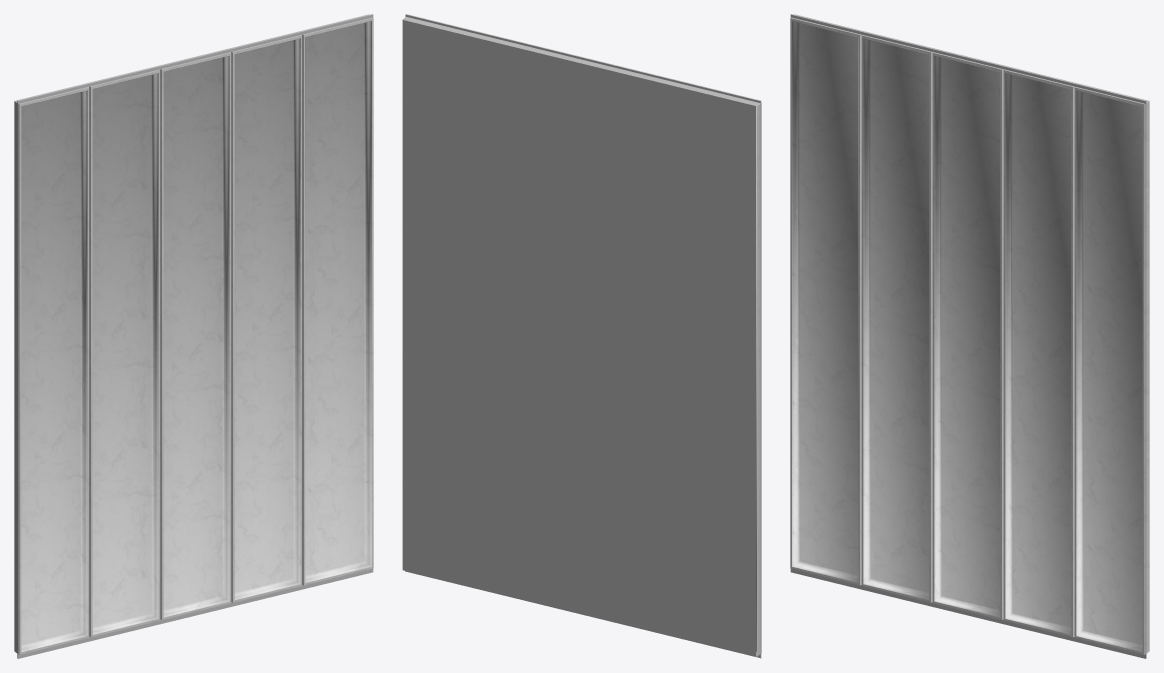
3 views of the same model, side by side, from view 1: azimuth 30°, elevation 25°; view 2: azimuth 150°, elevation 25°; view 3: azimuth 330°, elevation 25° (orthographic).
Parts seen in each view (by area): view 1: M_W_010_e_8x12; view 2: M_W_010_e_8x12; view 3: M_W_010_e_8x12.
Part boxes in pixels (bbox=[...]): M_W_010_e_8x12: bbox=[14, 14, 373, 658]; M_W_010_e_8x12: bbox=[402, 14, 761, 658]; M_W_010_e_8x12: bbox=[790, 14, 1149, 658].
Bounding box in the file's own units: 8 × 12 × 0.1932.
